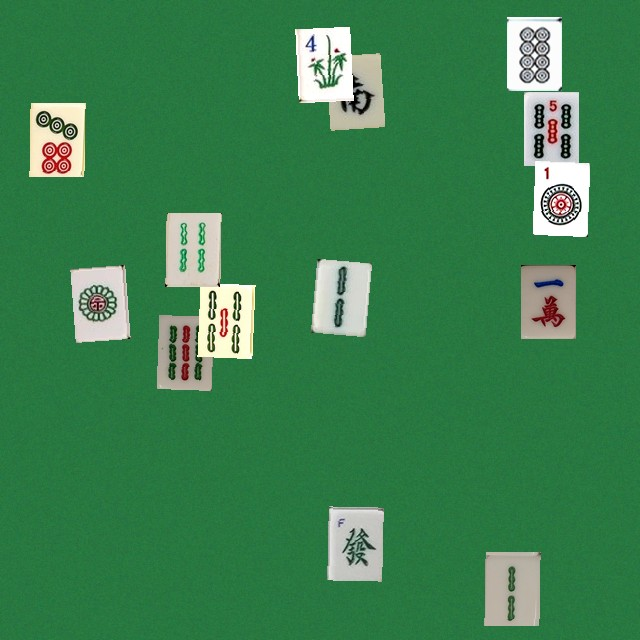tile: (506, 16, 561, 90), (156, 315, 211, 389), (29, 102, 84, 176), (197, 282, 252, 356), (70, 265, 125, 339), (310, 258, 365, 332), (325, 53, 380, 127), (523, 91, 578, 165), (295, 26, 350, 100), (532, 160, 587, 234), (520, 264, 575, 338), (165, 212, 220, 286), (484, 551, 539, 625), (327, 506, 382, 580)
